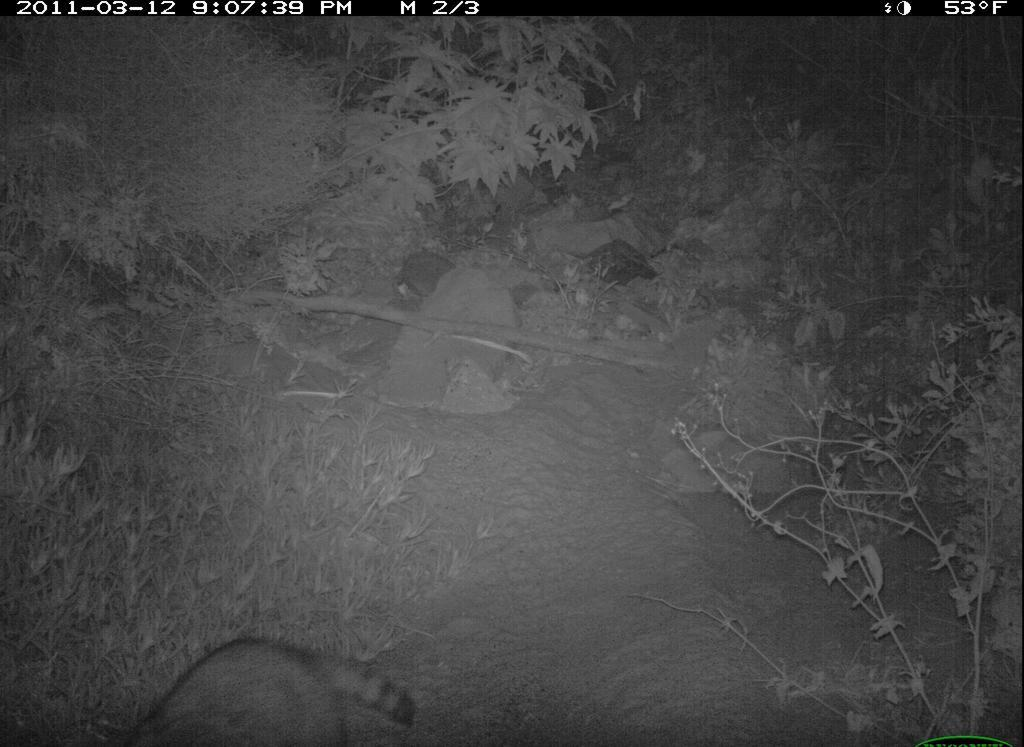raccoon: (111, 621, 437, 747)
